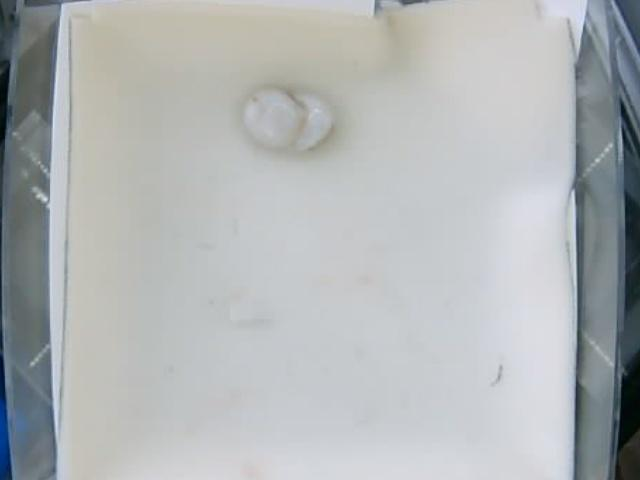Pebble: (246, 83, 331, 150)
